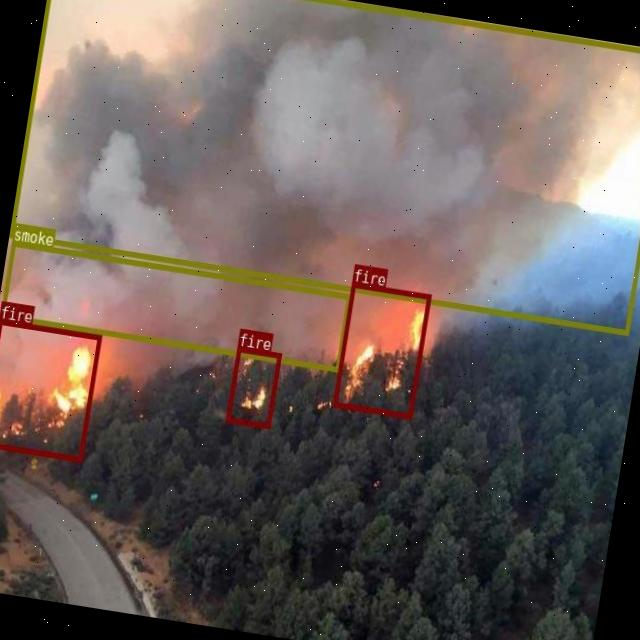fire: (0, 318, 102, 461), (332, 282, 431, 418), (225, 346, 281, 428)
smoke: (9, 0, 640, 334), (0, 240, 350, 371)
